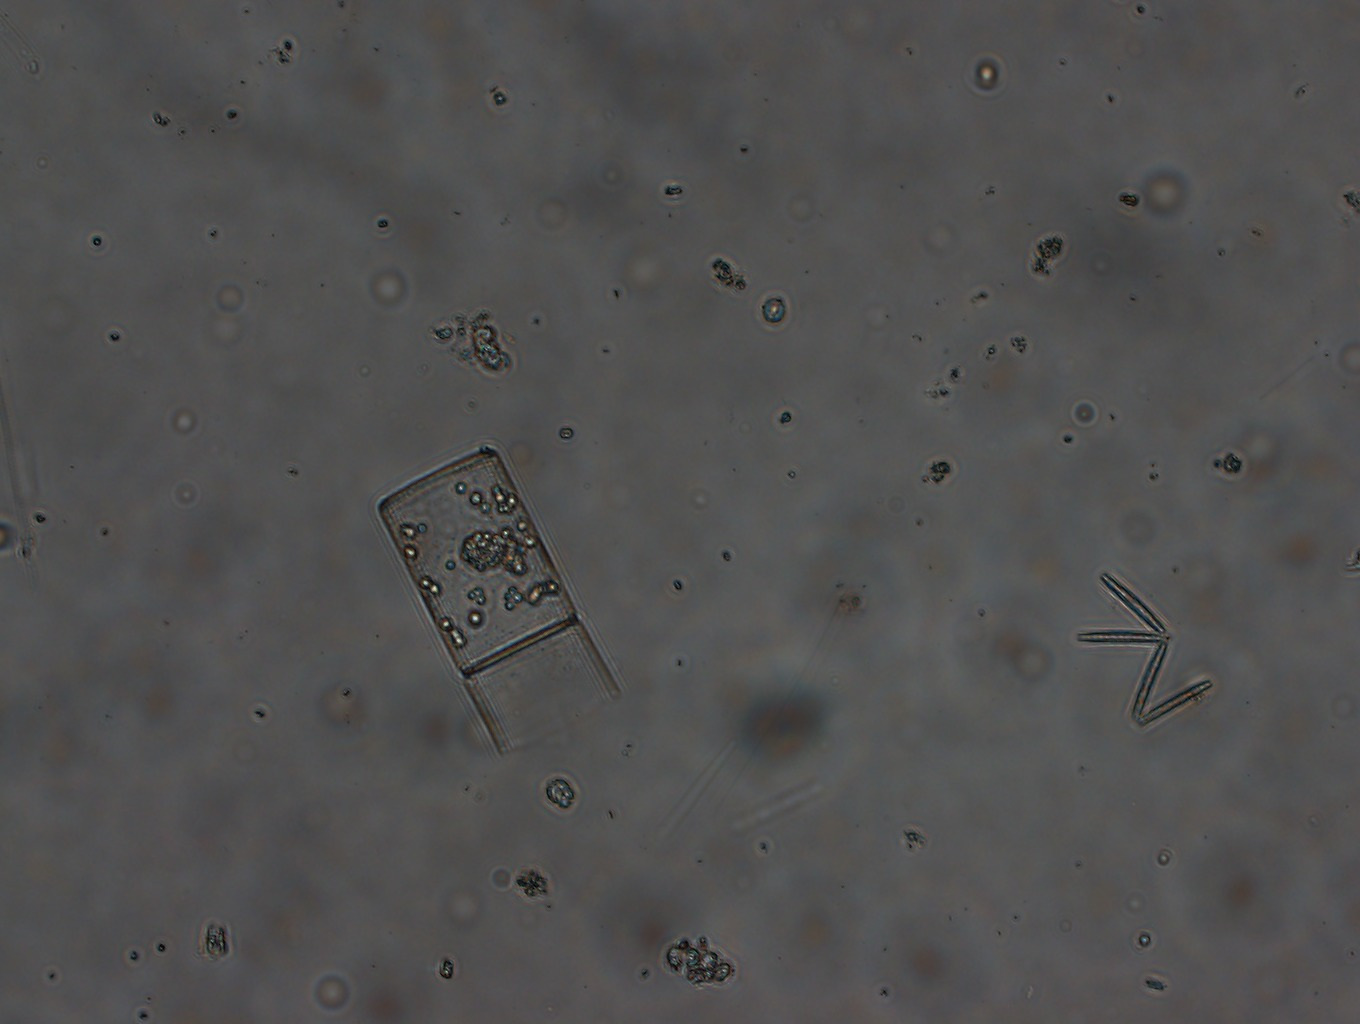guinardia flaccida: (375, 447, 621, 755)
thalassionema nitzschioides: (1078, 568, 1212, 727)
